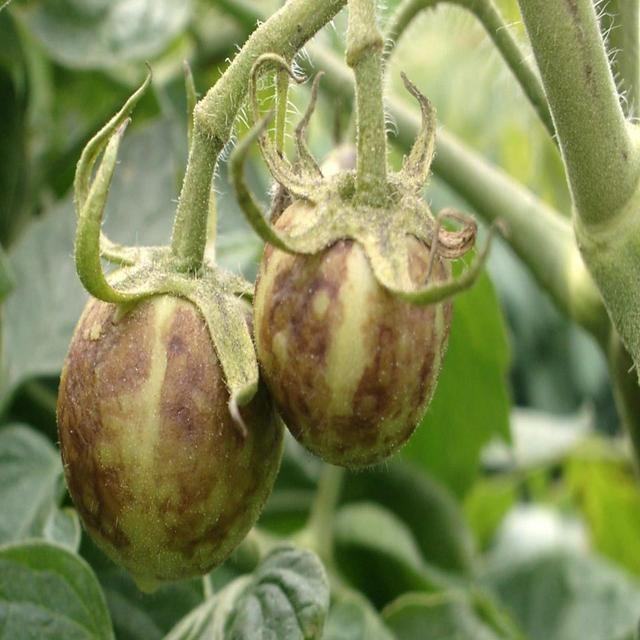Spotted wilt Virus Fruit: (113, 198, 237, 285)
